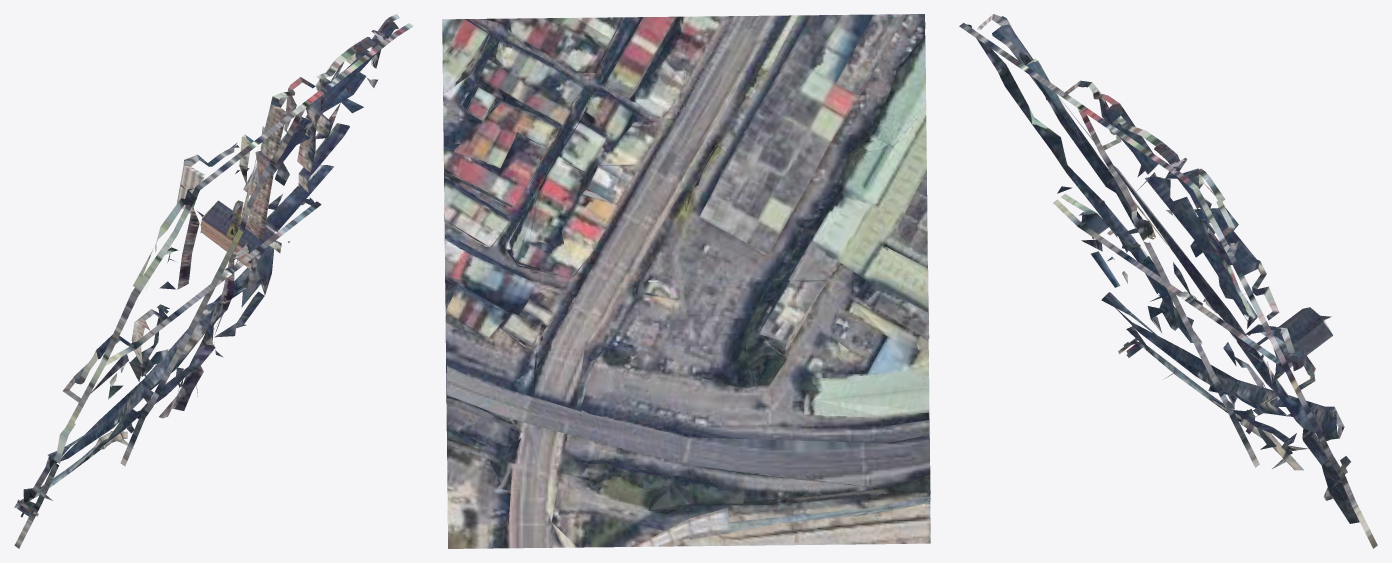
3 renders of one model, left to right at view 1: azimuth 30°, elevation 25°; view 2: azimuth 150°, elevation 25°; view 3: azimuth 270°, elevation 25°, orthographic. The views are drawn at different scales.
Bounding box in the file's own units: 306 × 285 × 258.
Materials: 2 (2 with a texture image).
